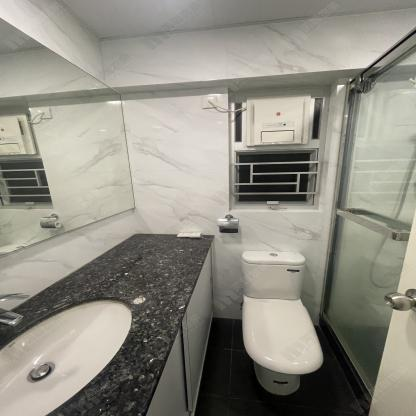Faucet: (1, 286, 29, 332)
Thermo Ventilator: (242, 96, 314, 148)
Toilet: (241, 251, 321, 394)
Toilet Sink: (0, 278, 196, 416)
